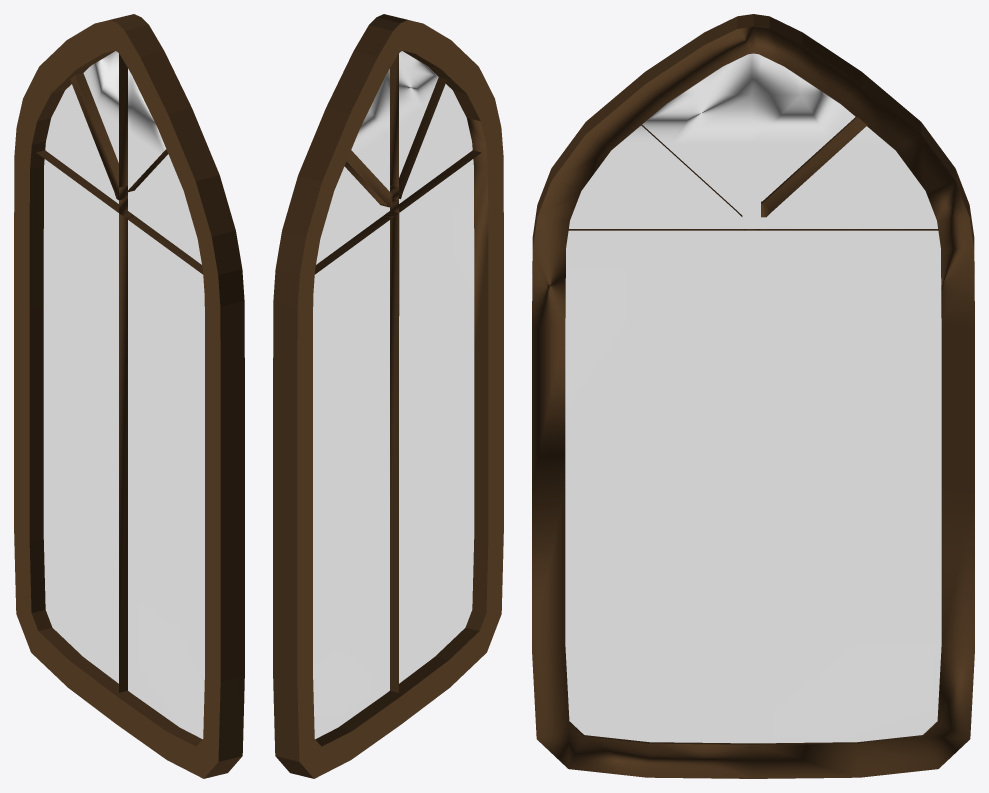
The model's file is Arched_Window.fbx.
3 renders of one model, left to right at view 1: azimuth 30°, elevation 25°; view 2: azimuth 150°, elevation 25°; view 3: azimuth 270°, elevation 25°, orthographic. The views are drawn at different scales.
Visible parts, largest first — view 1: Node 0.002, Node 0.001, Node 0.003; view 2: Node 0.002, Node 0.001, Node 0.003; view 3: Node 0.002, Node 0.001, Node 0.003.
Part boxes in pixels (x1,y1,x2,y2): Node 0.002: (43, 51, 204, 739); Node 0.001: (14, 14, 244, 778); Node 0.003: (36, 54, 203, 692); Node 0.002: (313, 51, 474, 739); Node 0.001: (273, 14, 503, 778); Node 0.003: (314, 54, 481, 692); Node 0.002: (565, 53, 941, 743); Node 0.001: (532, 14, 974, 778); Node 0.003: (568, 117, 938, 747).
Size of the model in its own units: 13.18 by 365 by 195.
